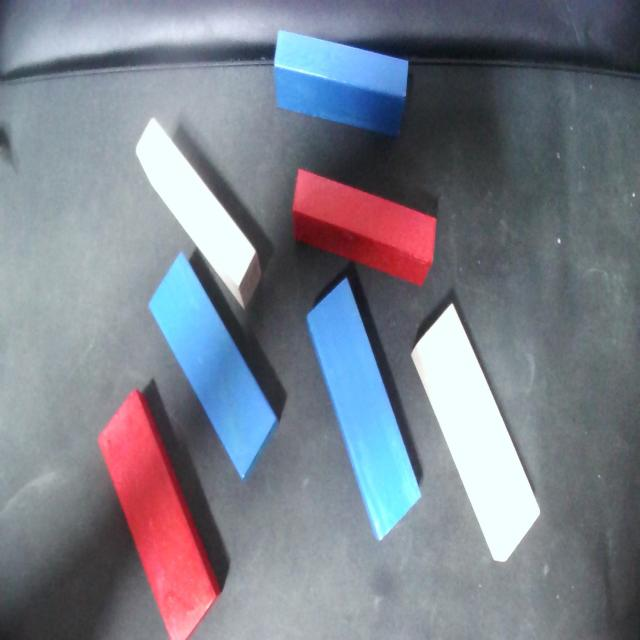blue: (130, 249, 299, 484), (292, 277, 431, 543), (259, 28, 419, 140)
red: (83, 386, 233, 640), (275, 168, 448, 288)
wood: (394, 303, 553, 566), (118, 116, 280, 312)
